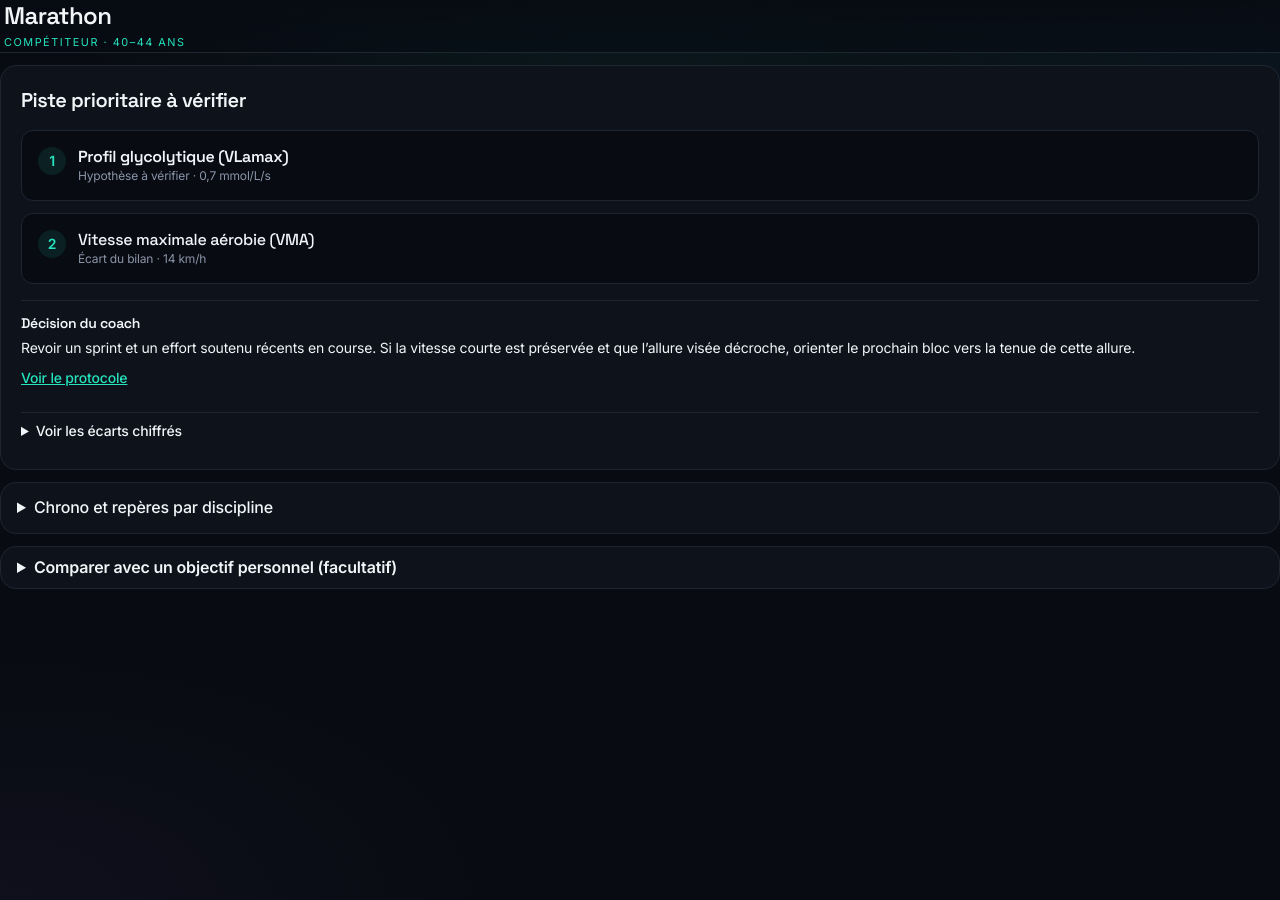
Test: Compass goal interaction › ranks all actionable and provisional field gaps by weighted impact
The width and height of the screenshot is (1280, 900).
Expected: the list item that starts with "Profil glycolytique (VLamax)" is shown, [78,146,288,167]
Expected: the list item that starts with "Profil glycolytique (VLamax)" shows "Hypothèse à vérifier", [78,168,190,183]
Step 1. Click the heading "Voir les écarts chiffrés" → (109, 431), box [36,422,182,439]
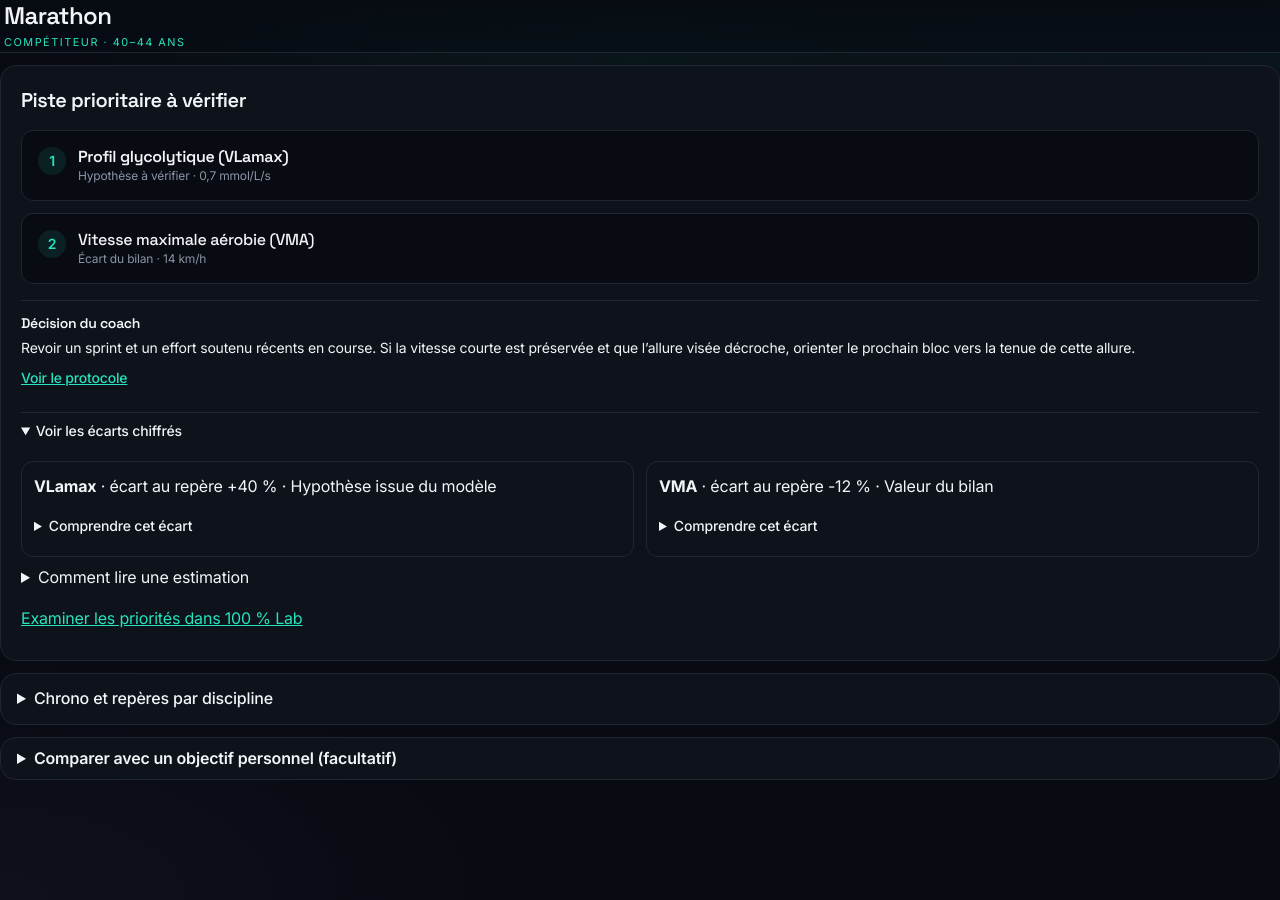
Expected: the list item that starts with "VLamax" shows "VLamax · écart au repère +40 %", [21,461,634,557]
Expected: the list item that starts with "VLamax" shows "Hypothèse", [290,476,496,496]
Expected: the list item that starts with "VMA" shows "VMA · écart au repère -12 %", [646,461,1259,557]
